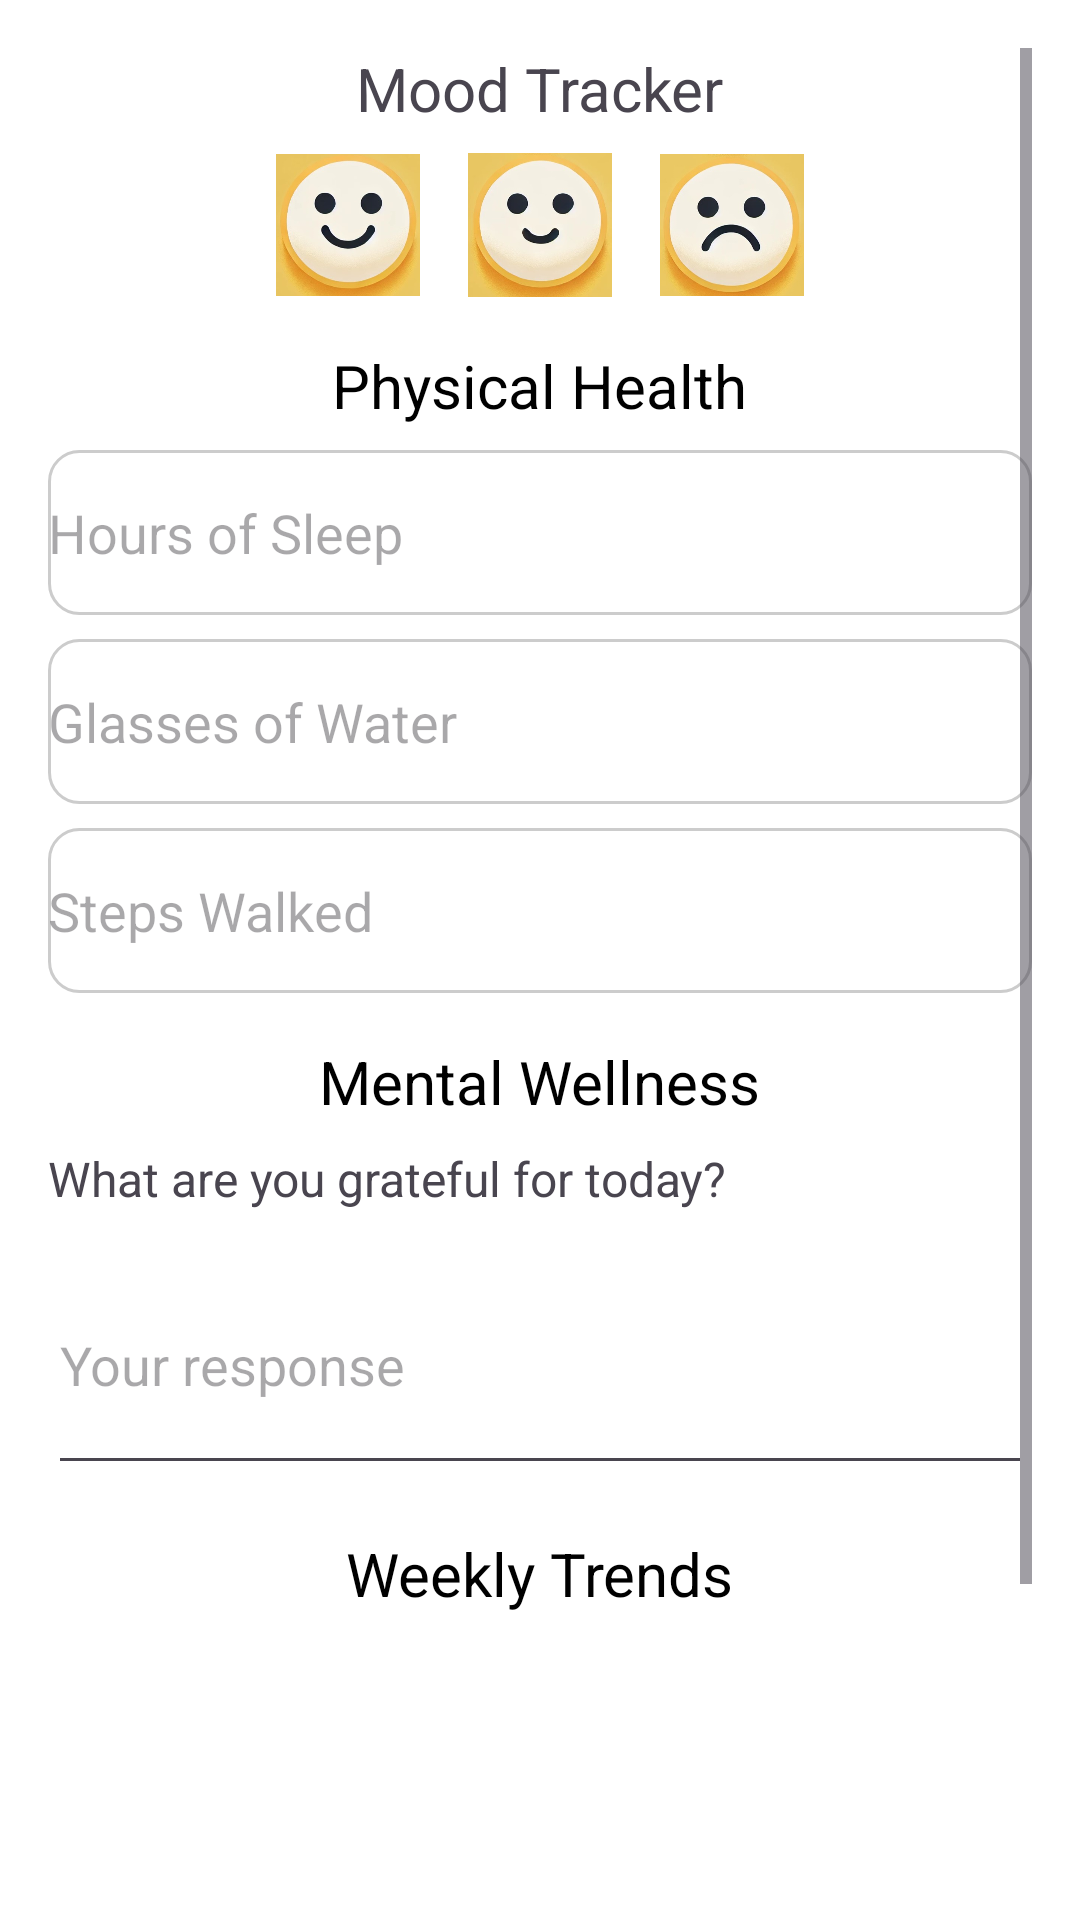

Screen size 1080x1920. Icon name, then its box in pixels as (left=x1, top=y1, right=x2, bottom=y2):
emoji happy: (left=276, top=154, right=420, bottom=296)
emoji sad: (left=660, top=154, right=804, bottom=296)
